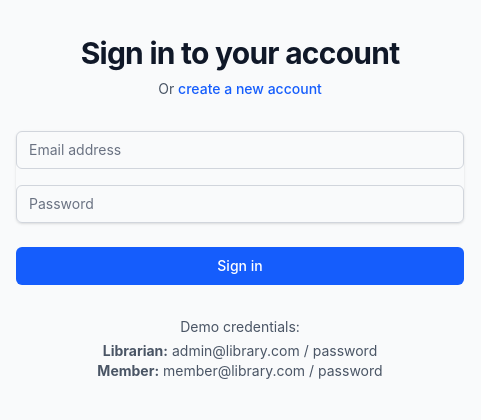
LoginPage Accessibility › should display validation errors accessibly
# Submit empty form
Click the button "Sign in" at (240, 266), box top-left (16, 247), bottom-right (464, 285)
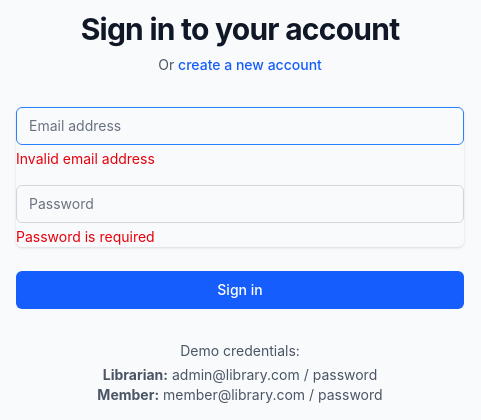
Expected: the text "Invalid email address" is shown, top-left (16, 150), bottom-right (155, 167)
